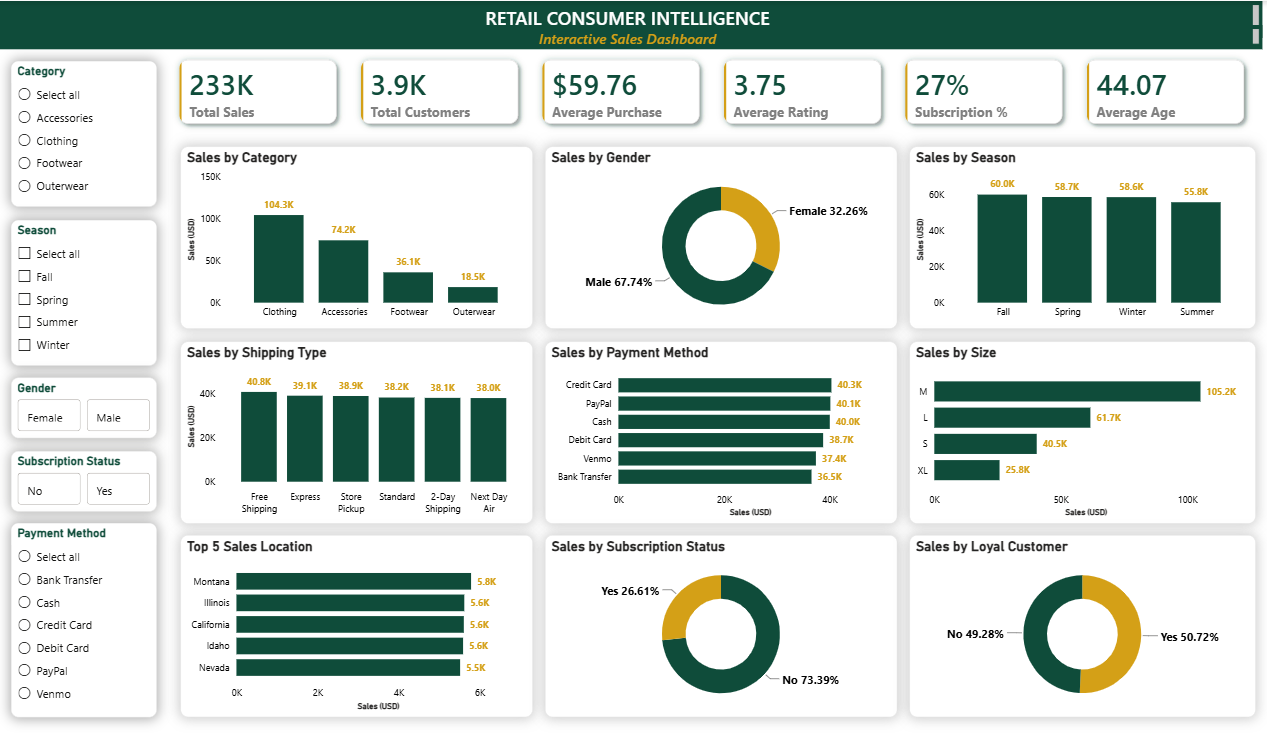

The page's visual inventory and layout, read from the dashboard file:
{"tool":"powerbi","page":{"name":"Page 1","canvas":[1670,970],"ordinal":0},"visuals":[{"type":"textbox","box":[0,0,1664,48],"z":0},{"type":"cardVisual","fields":{"Data":["consumer_behavior_final.Total Sales","consumer_behavior_final.Total Customers","consumer_behavior_final.Average Purchase","consumer_behavior_final.Average Rating","consumer_behavior_final.Subscription %","consumer_behavior_final.Average Age"]},"box":[208,48,1462,144],"z":1000},{"type":"listSlicer","fields":{"Values":["consumer_behavior_final.Category"]},"box":[16,80,192,192],"z":2000},{"type":"listSlicer","fields":{"Values":["consumer_behavior_final.Season"]},"box":[16,288,192,192],"z":3000},{"type":"advancedSlicerVisual","fields":{"Values":["consumer_behavior_final.Gender"]},"box":[16,496,192,80],"z":4000},{"type":"advancedSlicerVisual","fields":{"Values":["consumer_behavior_final.Subscription Status"]},"box":[16,592,192,80],"z":5000},{"type":"textbox","box":[0,32,1664,32],"z":6000},{"type":"clusteredColumnChart","title":"Sales by Category","fields":{"Category":["consumer_behavior_final.Category"],"Y":["Sum(consumer_behavior_final.Purchase Amount (USD))"]},"box":[240,192,464,240],"z":7000},{"type":"clusteredColumnChart","title":"Sales by Shipping Type","fields":{"Category":["consumer_behavior_final.Shipping Type"],"Y":["Sum(consumer_behavior_final.Purchase Amount (USD))"]},"box":[240,448,464,240],"z":8000},{"type":"donutChart","title":"Sales by Gender","fields":{"Y":["Sum(consumer_behavior_final.Purchase Amount (USD))"],"Series":["consumer_behavior_final.Gender"]},"box":[720,192,464,240],"z":9000},{"type":"clusteredColumnChart","title":"Sales by Season","fields":{"Category":["consumer_behavior_final.Season"],"Y":["Sum(consumer_behavior_final.Purchase Amount (USD))"]},"box":[1200,192,456,240],"z":10000},{"type":"clusteredBarChart","title":"Sales by Payment Method","fields":{"Category":["consumer_behavior_final.Payment Method"],"Y":["Sum(consumer_behavior_final.Purchase Amount (USD))"]},"box":[720,448,464,240],"z":11000},{"type":"clusteredBarChart","title":"Sales by Size","fields":{"Category":["consumer_behavior_final.Size"],"Y":["Sum(consumer_behavior_final.Purchase Amount (USD))"]},"box":[1200,448,456,240],"z":12000},{"type":"clusteredBarChart","title":"Top 5 Sales Location","fields":{"Category":["consumer_behavior_final.Location"],"Y":["Sum(consumer_behavior_final.Purchase Amount (USD))"]},"box":[240,704,464,240],"z":13000},{"type":"donutChart","title":"Sales by Subscription Status","fields":{"Category":["consumer_behavior_final.Subscription Status"],"Y":["Sum(consumer_behavior_final.Purchase Amount (USD))"]},"box":[720,704,464,240],"z":14000},{"type":"donutChart","title":"Sales by Loyal Customer","fields":{"Category":["consumer_behavior_final.Loyal Customer"],"Y":["Sum(consumer_behavior_final.Purchase Amount (USD))"]},"box":[1200,704,456,240],"z":15000},{"type":"listSlicer","fields":{"Values":["consumer_behavior_final.Payment Method"]},"box":[16,688,192,256],"z":16000}]}

Visuals, with their boxes in screenshot pixels (x1, y1, x2, y2), scaled from the page's 1670x970 canvas onto the 1267x733 screenshot:
textbox: rect(0, 0, 1262, 36)
cardVisual - consumer_behavior_final.Total Sales x consumer_behavior_final.Total Customers: rect(158, 36, 1266, 145)
listSlicer - consumer_behavior_final.Category: rect(12, 60, 158, 206)
listSlicer - consumer_behavior_final.Season: rect(12, 218, 158, 363)
advancedSlicerVisual - consumer_behavior_final.Gender: rect(12, 375, 158, 435)
advancedSlicerVisual - consumer_behavior_final.Subscription Status: rect(12, 447, 158, 508)
textbox: rect(0, 24, 1262, 48)
"Sales by Category" clusteredColumnChart: rect(182, 145, 534, 326)
"Sales by Shipping Type" clusteredColumnChart: rect(182, 339, 534, 520)
"Sales by Gender" donutChart: rect(546, 145, 898, 326)
"Sales by Season" clusteredColumnChart: rect(910, 145, 1256, 326)
"Sales by Payment Method" clusteredBarChart: rect(546, 339, 898, 520)
"Sales by Size" clusteredBarChart: rect(910, 339, 1256, 520)
"Top 5 Sales Location" clusteredBarChart: rect(182, 532, 534, 713)
"Sales by Subscription Status" donutChart: rect(546, 532, 898, 713)
"Sales by Loyal Customer" donutChart: rect(910, 532, 1256, 713)
listSlicer - consumer_behavior_final.Payment Method: rect(12, 520, 158, 713)
